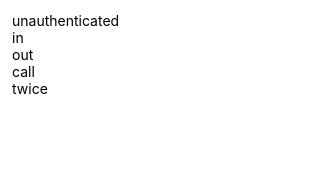
Test: IR3. the server REFUSING the stored secret (401) signs the driver out and removes it — exactly as start-up restore does
The image size is (332, 172).
Click the element with test id "sign-in" at (18, 38), box [12,29,24,46]
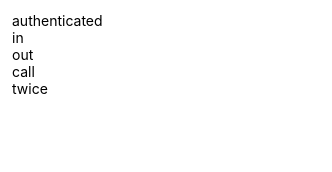
Result: the text with test id "status" reads "authenticated" at [12,12,103,29]
Click the element with test id "call" at (23, 72), box [12,63,35,80]
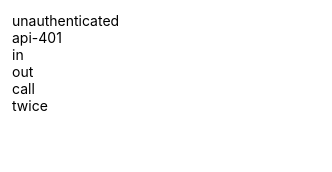
Result: the text with test id "status" reads "unauthenticated" at [12,12,119,29]
Result: the text with test id "outcomes" reads "api-401" at [12,29,62,46]
